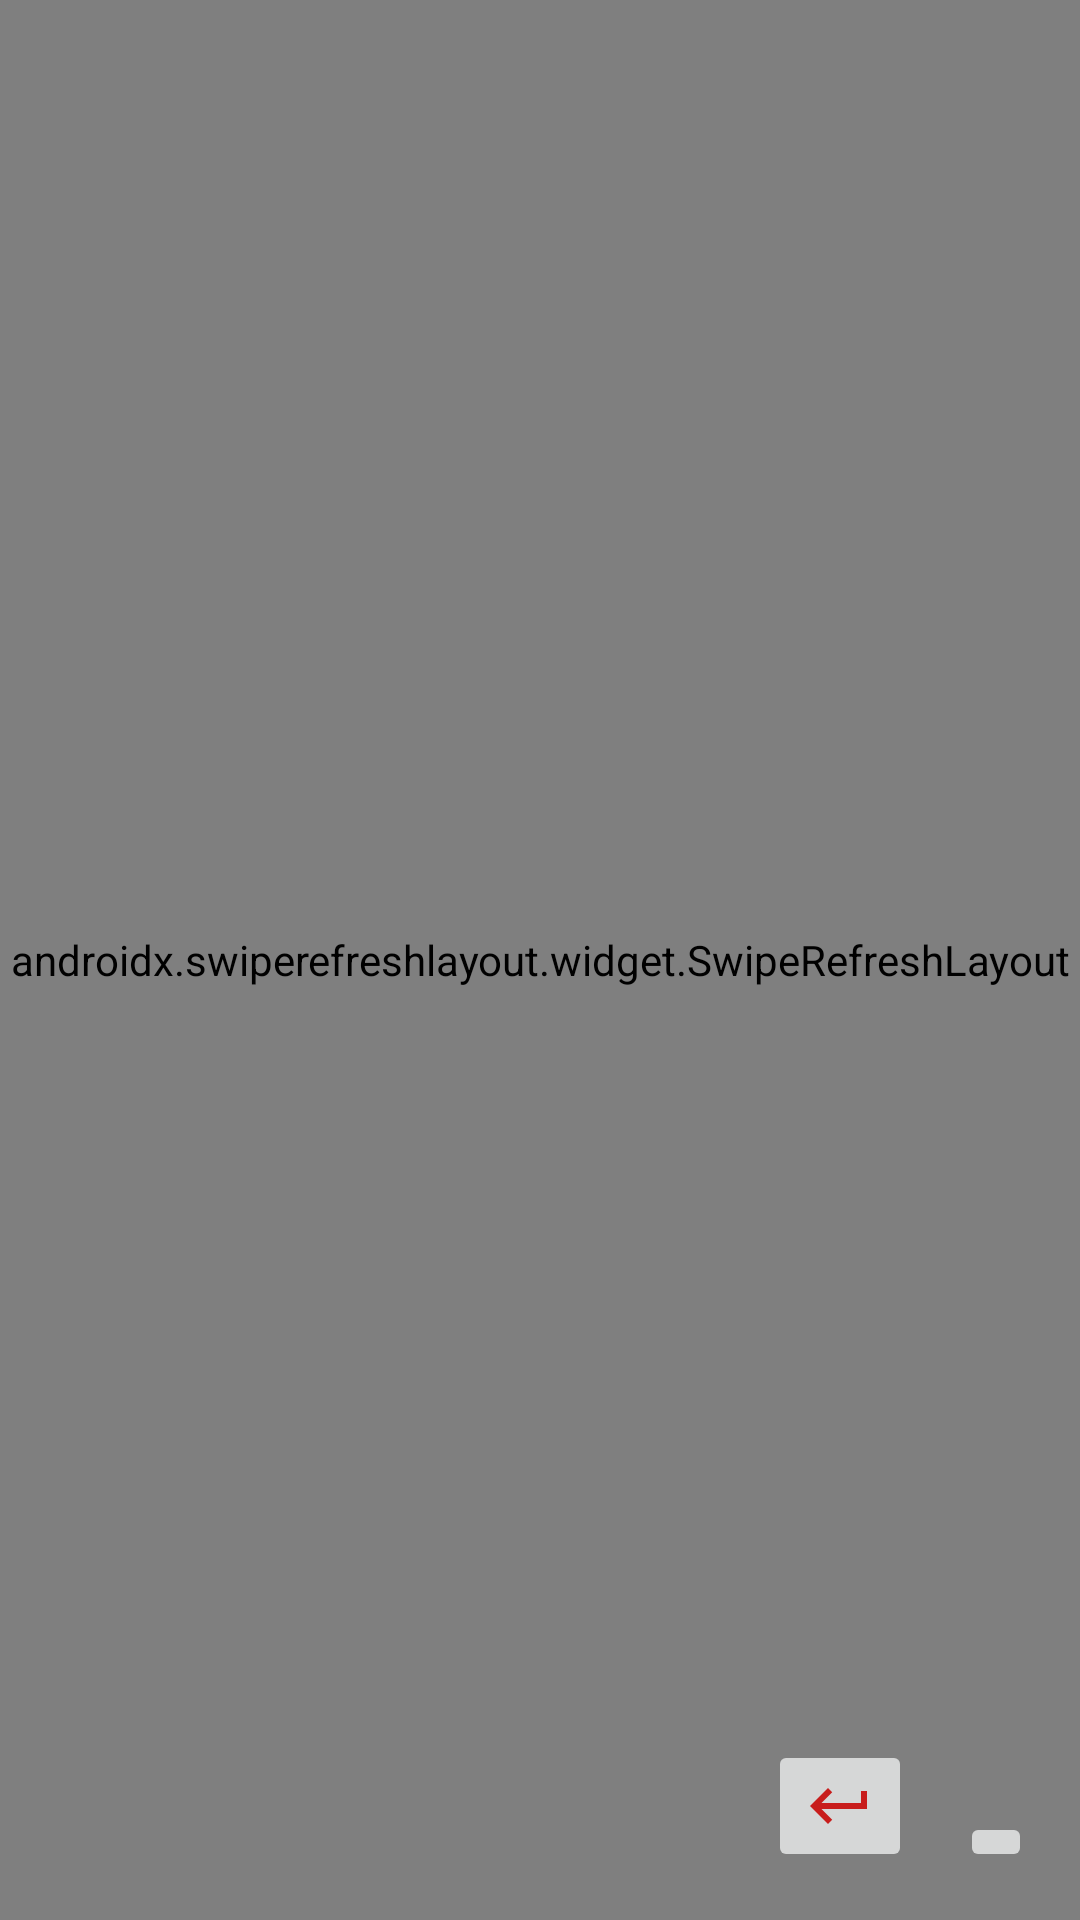

Where icons sit on this 1080w x 1920h app screen, as (x1, y1, x2, y2):
keyboard return: (780, 1758, 900, 1854)
